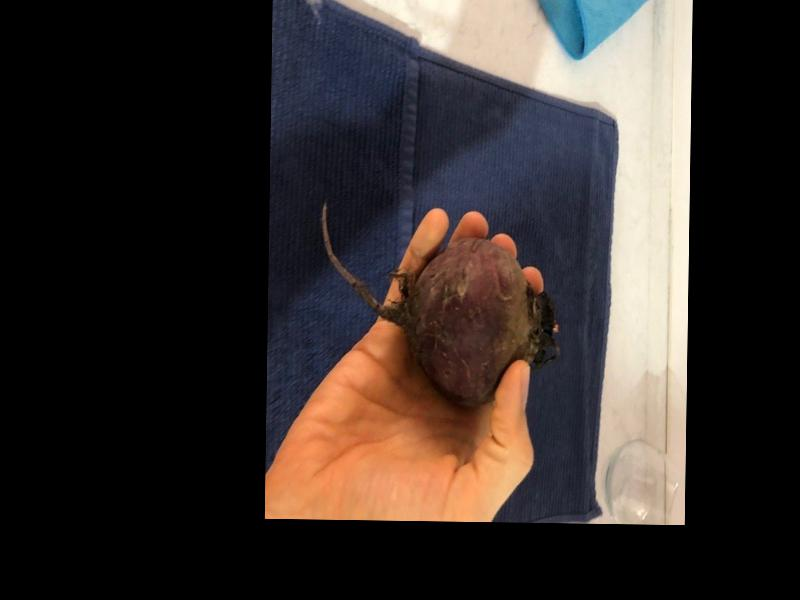Beet: (318, 198, 560, 409)
